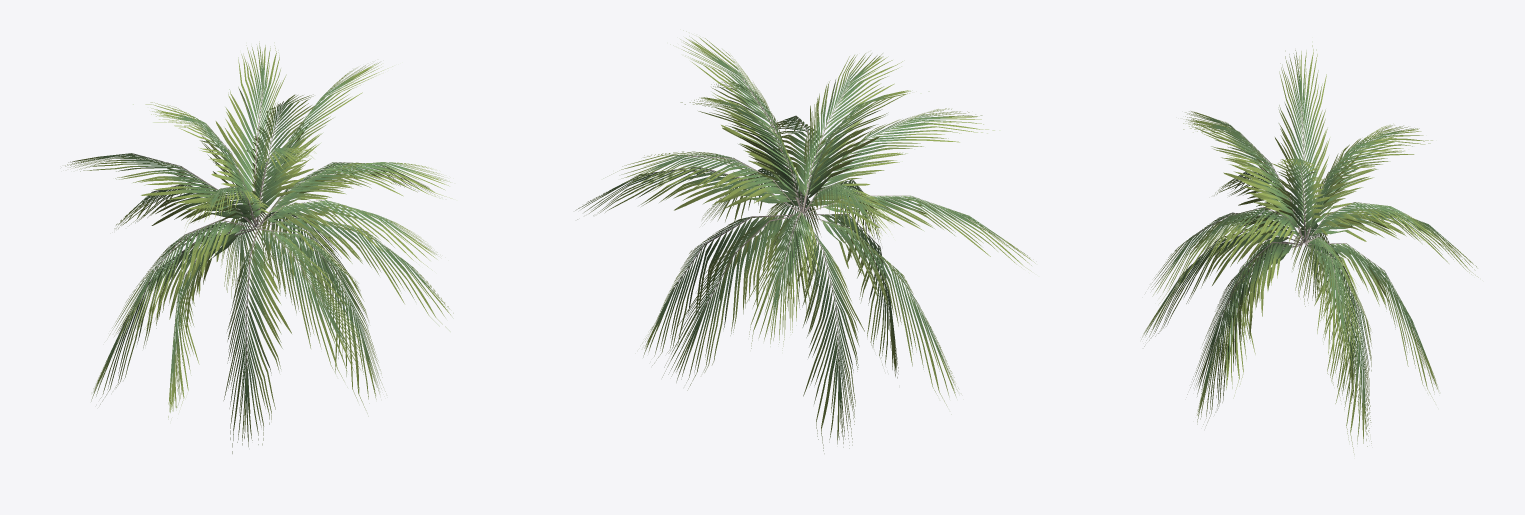
File: m_palm_p2_23_leaf_0_lev2.glb
The picture shows the model from 3 angles, left to right: view 1: azimuth 30°, elevation 25°; view 2: azimuth 150°, elevation 25°; view 3: azimuth 270°, elevation 25°; orthographic projection. The views are drawn at different scales.
Visible parts, largest first — view 1: m_palm_p2_23_leaf_0_lev2; view 2: m_palm_p2_23_leaf_0_lev2; view 3: m_palm_p2_23_leaf_0_lev2.
Part boxes in pixels (<box>): m_palm_p2_23_leaf_0_lev2: <box>65,41,453,453</box>; m_palm_p2_23_leaf_0_lev2: <box>575,30,1035,453</box>; m_palm_p2_23_leaf_0_lev2: <box>1141,41,1478,454</box>.
Size of the model in its own units: 3.94 by 3.25 by 3.
1 material, 1 textured.
